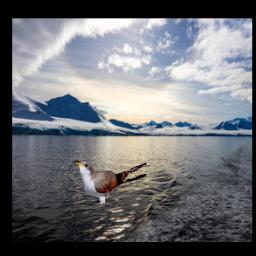Cuckoo: (73, 161, 146, 205)
